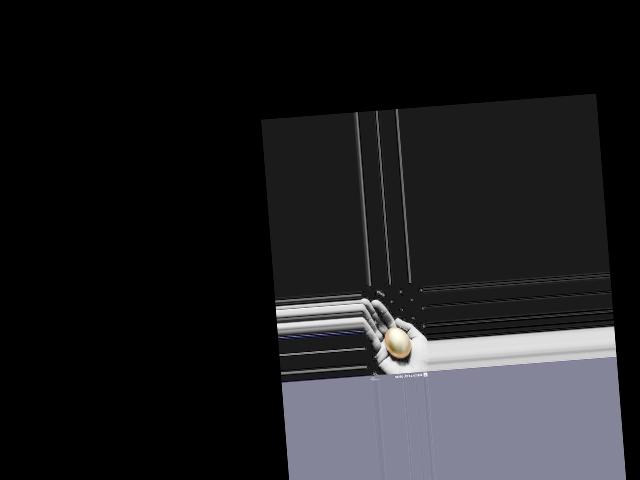egg: (383, 326, 411, 358)
